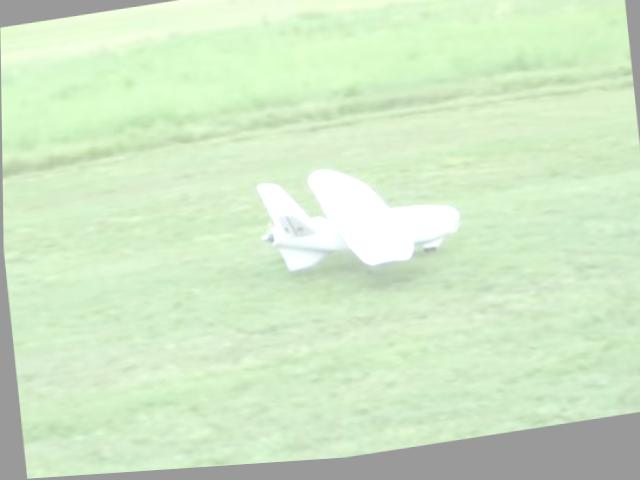uav: (253, 155, 463, 291)
